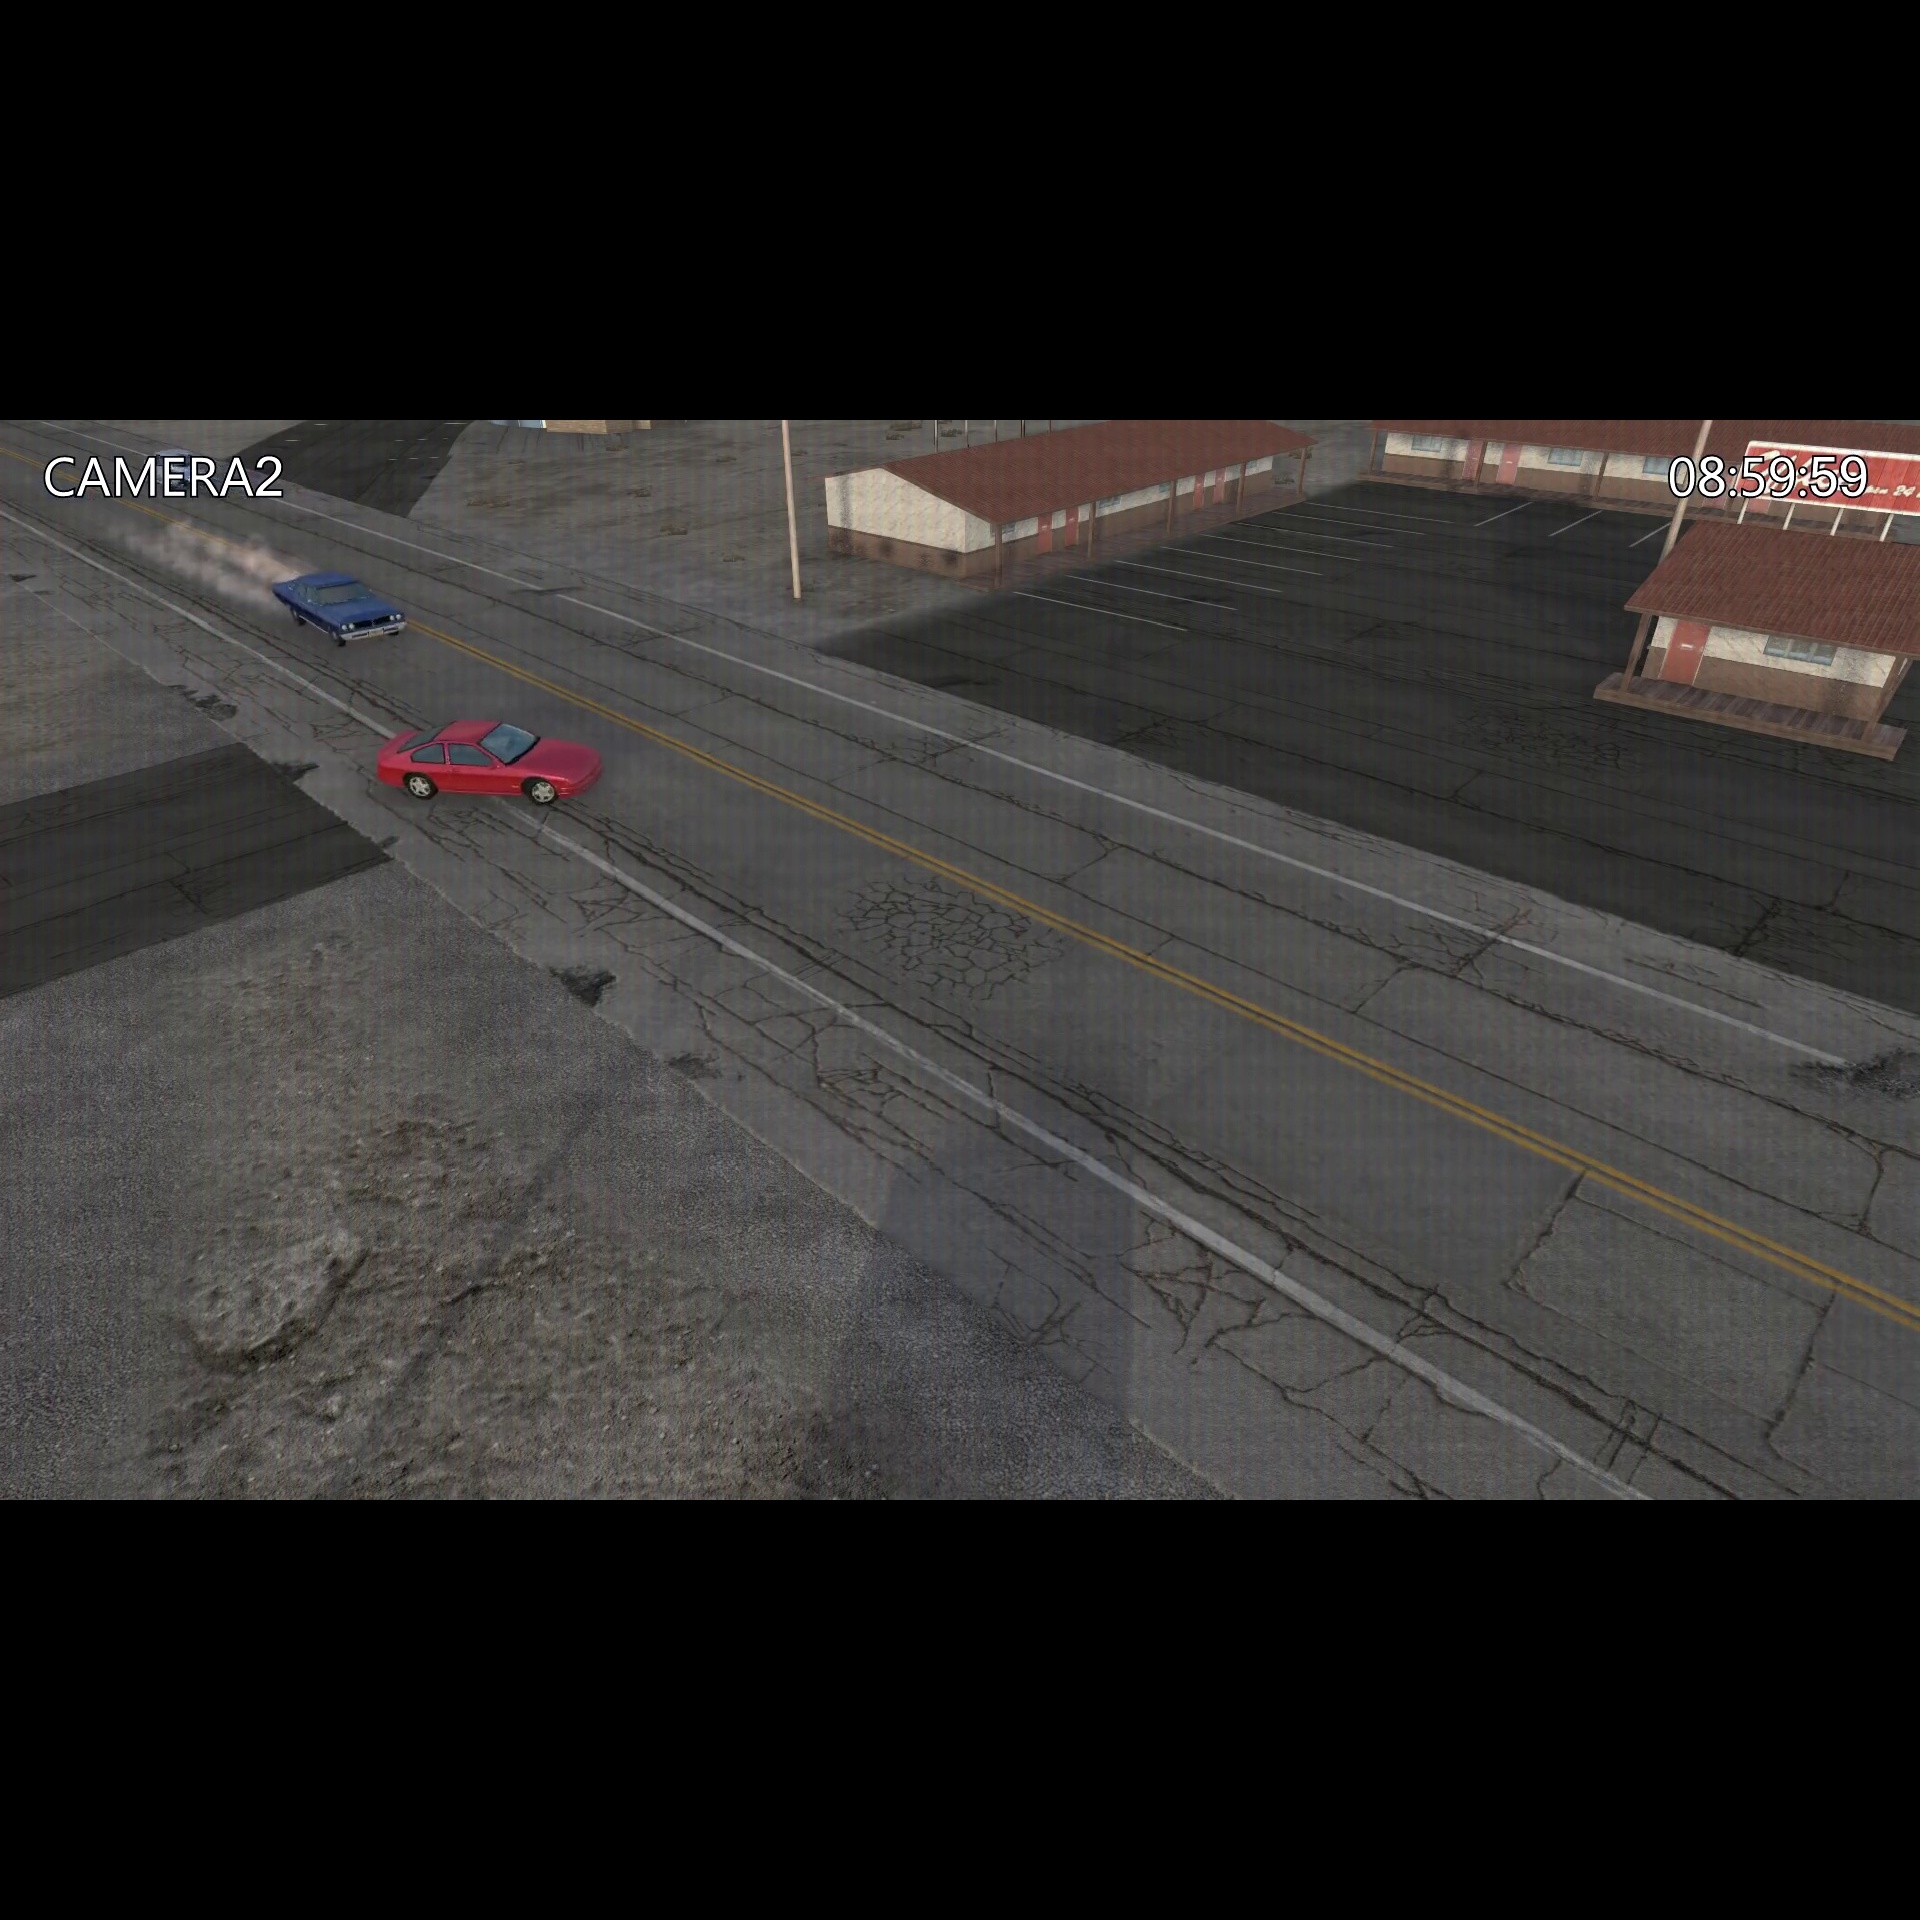vehicle: (369, 707, 605, 814), (269, 563, 411, 652)
